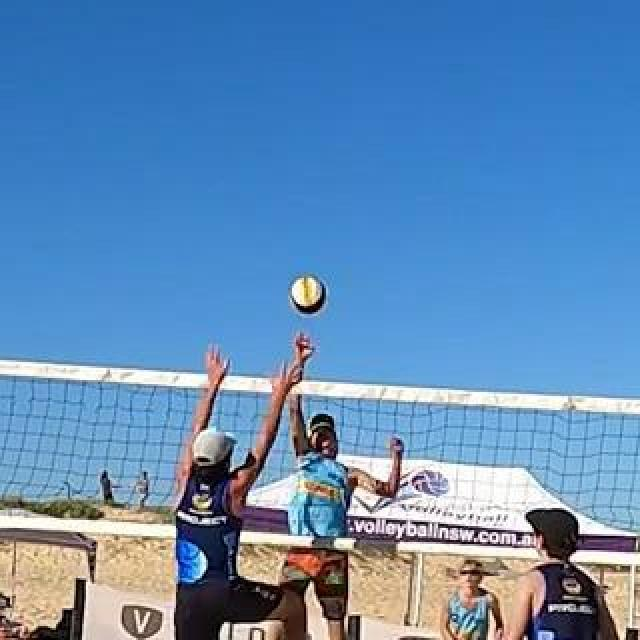volleyball: (290, 275, 326, 313)
